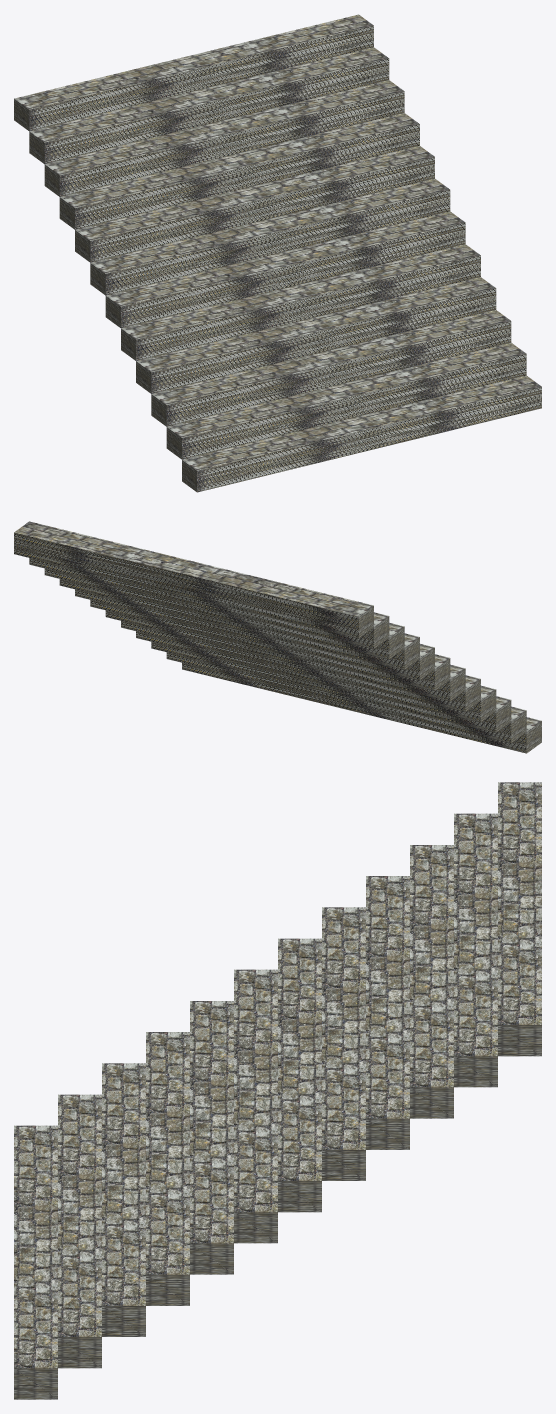
The model's file is stairs2.glb.
3 views of the same model, one above another, from view 1: azimuth 30°, elevation 25°; view 2: azimuth 150°, elevation 25°; view 3: azimuth 270°, elevation 25° (orthographic). The views are drawn at different scales.
Parts seen in each view (by area): view 1: Cube; view 2: Cube; view 3: Cube.
Part boxes in pixels (x1,y1,x2,y2): Cube: [14, 14, 541, 492]; Cube: [14, 521, 541, 753]; Cube: [14, 782, 541, 1399].
Size of the model in its own units: 3 by 2.16 by 2.76.
1 material, 1 textured.
